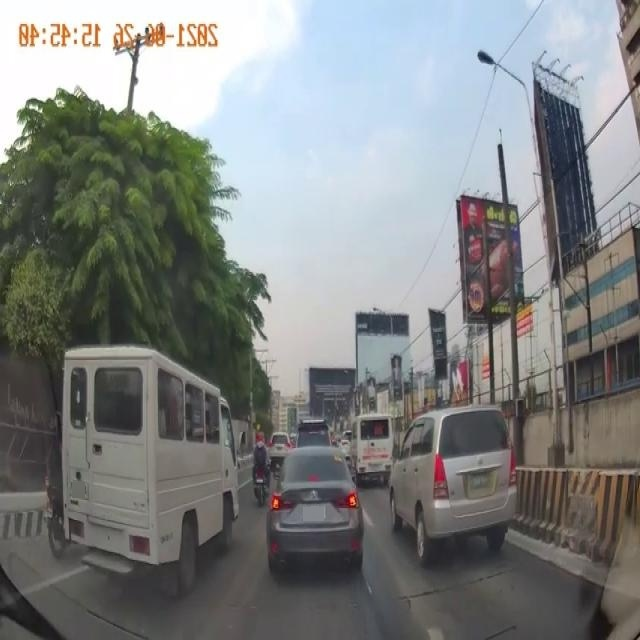car: (382, 398, 513, 553)
motorcycle: (251, 426, 269, 508)
